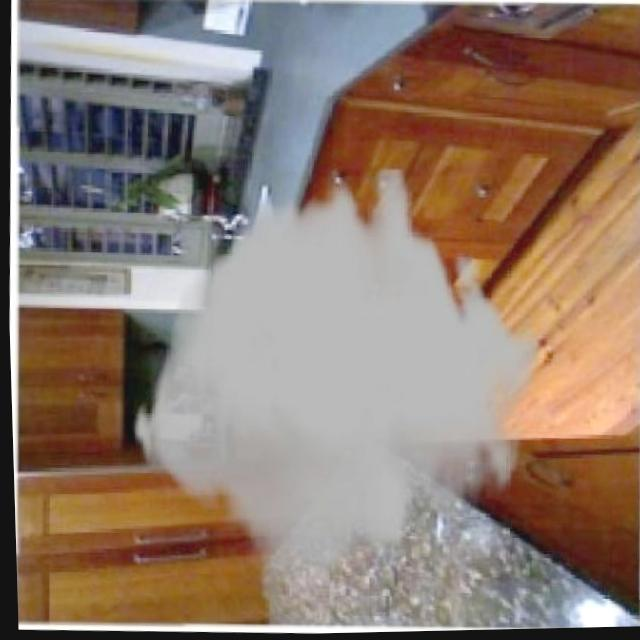Smoke: (112, 164, 553, 602)
